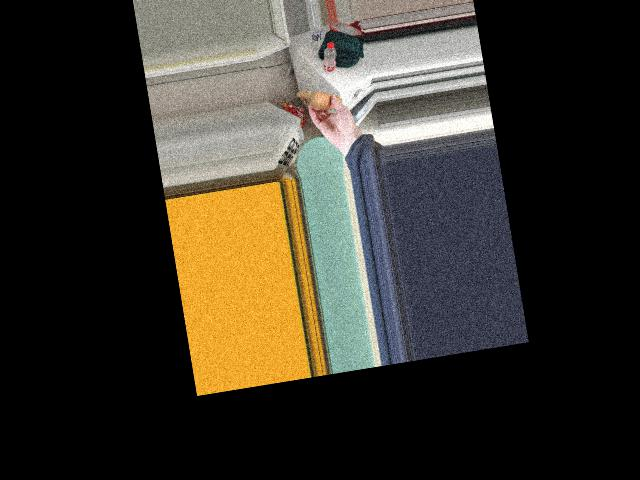sweet_potato: (308, 88, 338, 111)
